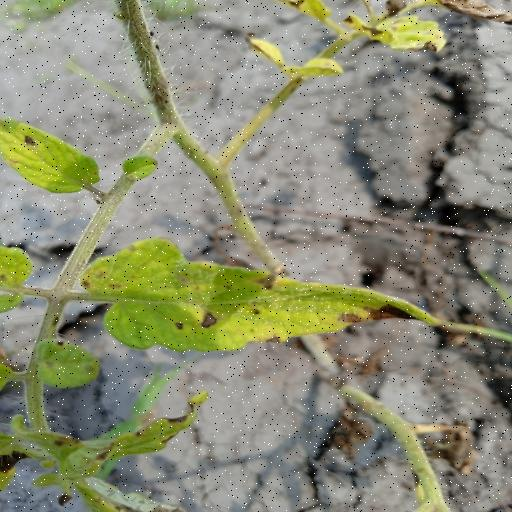Tomato_Brown_Spots: (76, 234, 447, 354)
